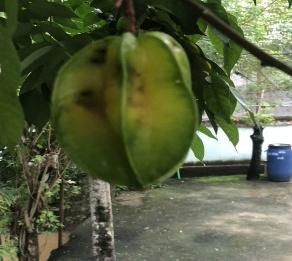Khe: (49, 28, 205, 194)
